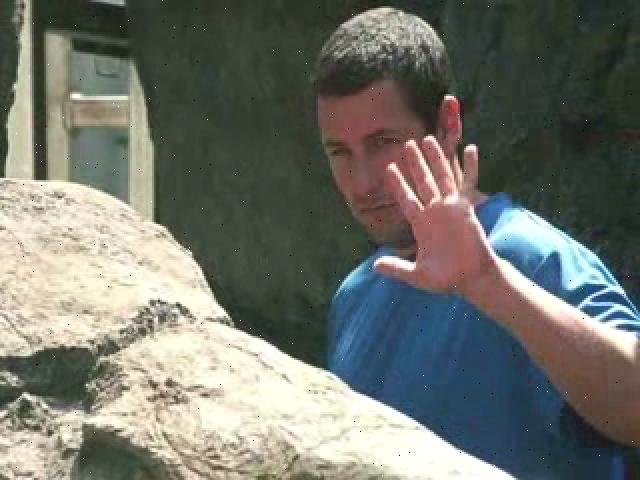L: (291, 2, 640, 480)
